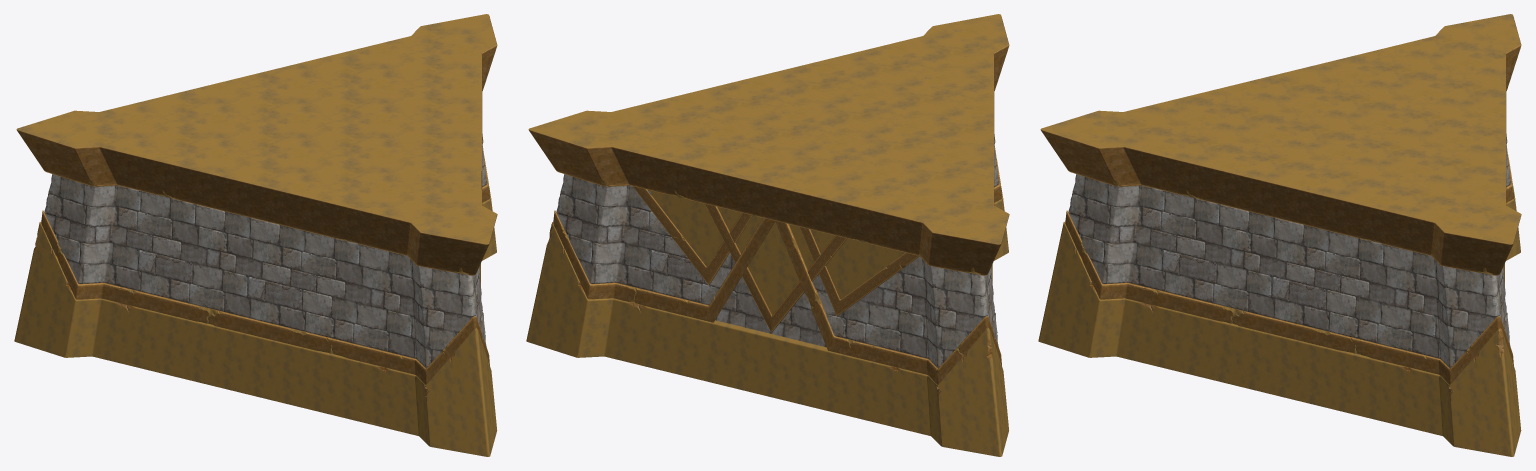
3 renders of one model, left to right at view 1: azimuth 30°, elevation 25°; view 2: azimuth 150°, elevation 25°; view 3: azimuth 270°, elevation 25°, orthographic.
Visible parts, largest first — view 1: SM_Dragons_Lair_Base_01_LOD0; view 2: SM_Dragons_Lair_Base_01_LOD0; view 3: SM_Dragons_Lair_Base_01_LOD0.
Boxes of the visible parts, <box> form: SM_Dragons_Lair_Base_01_LOD0: <box>14,14,497,456</box>; SM_Dragons_Lair_Base_01_LOD0: <box>526,14,1009,456</box>; SM_Dragons_Lair_Base_01_LOD0: <box>1038,14,1521,456</box>.
Bounding box in the file's own units: 64.47 × 27.54 × 56.78.
4 materials, 4 textured.
